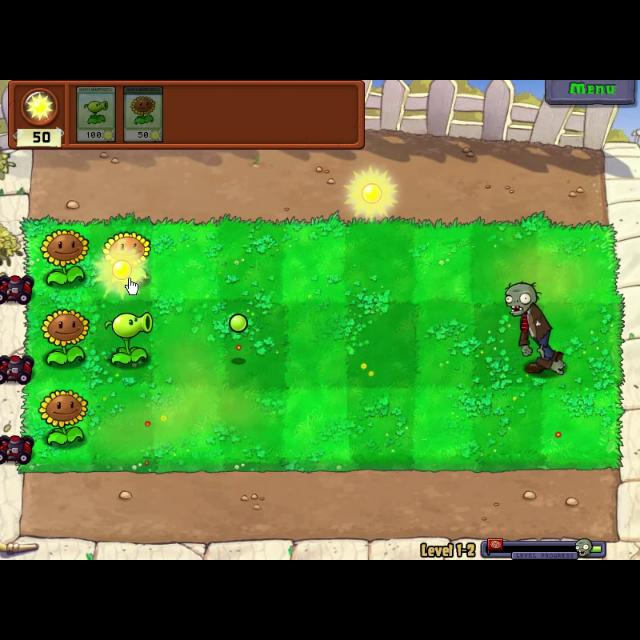Garden: (14, 213, 624, 475)
Menu Button: (542, 80, 636, 108)
Mower: (0, 348, 34, 388), (0, 435, 38, 467), (1, 273, 34, 305)
Peashooter: (76, 86, 115, 144)
Peashooter Seed: (100, 304, 158, 370)
Seed Panel: (7, 80, 373, 152)
Sun: (343, 157, 399, 227), (90, 242, 152, 298)
Sunflower: (121, 81, 165, 145)
Sunflower Seed: (38, 304, 90, 370), (36, 386, 90, 448), (102, 226, 154, 288), (42, 226, 84, 288)
Zombie: (501, 280, 571, 378)
